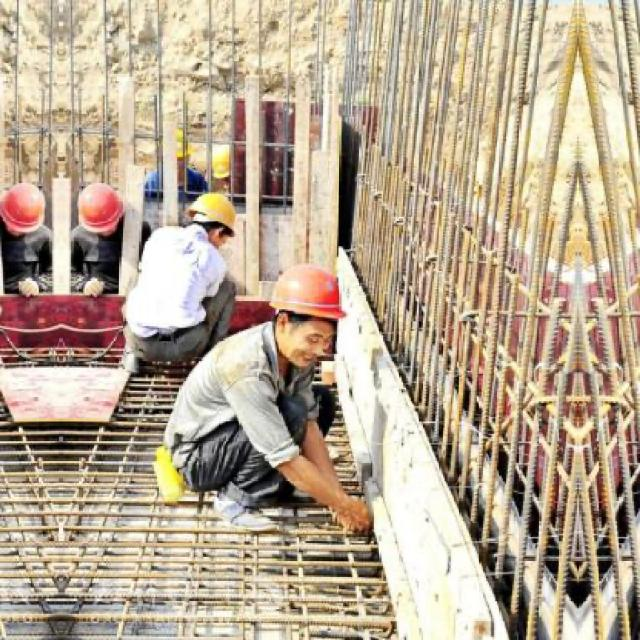helmet: (260, 257, 345, 363), (189, 191, 243, 257), (77, 180, 128, 240), (2, 178, 49, 240), (205, 142, 243, 190), (164, 124, 196, 174)
